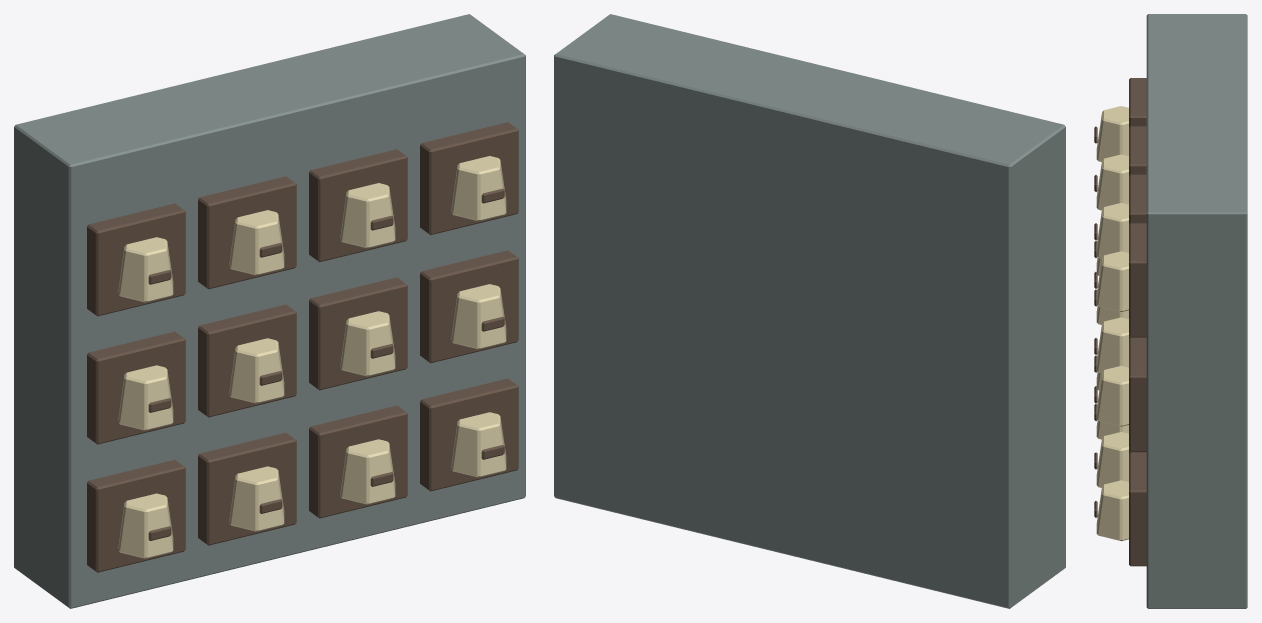
File: ossuary.glb
The picture shows the model from 3 angles, left to right: view 1: azimuth 30°, elevation 25°; view 2: azimuth 150°, elevation 25°; view 3: azimuth 270°, elevation 25°; orthographic projection. The views are drawn at different scales.
Visible parts, largest first — view 1: TV_ossuary; view 2: TV_ossuary; view 3: TV_ossuary.
Boxes of the visible parts, x1,y1,x2,y2 form: TV_ossuary: (14,14,525,608); TV_ossuary: (554,14,1065,608); TV_ossuary: (1094,14,1247,608).
Size of the model in its own units: 2.8 by 2.6 by 0.91.
